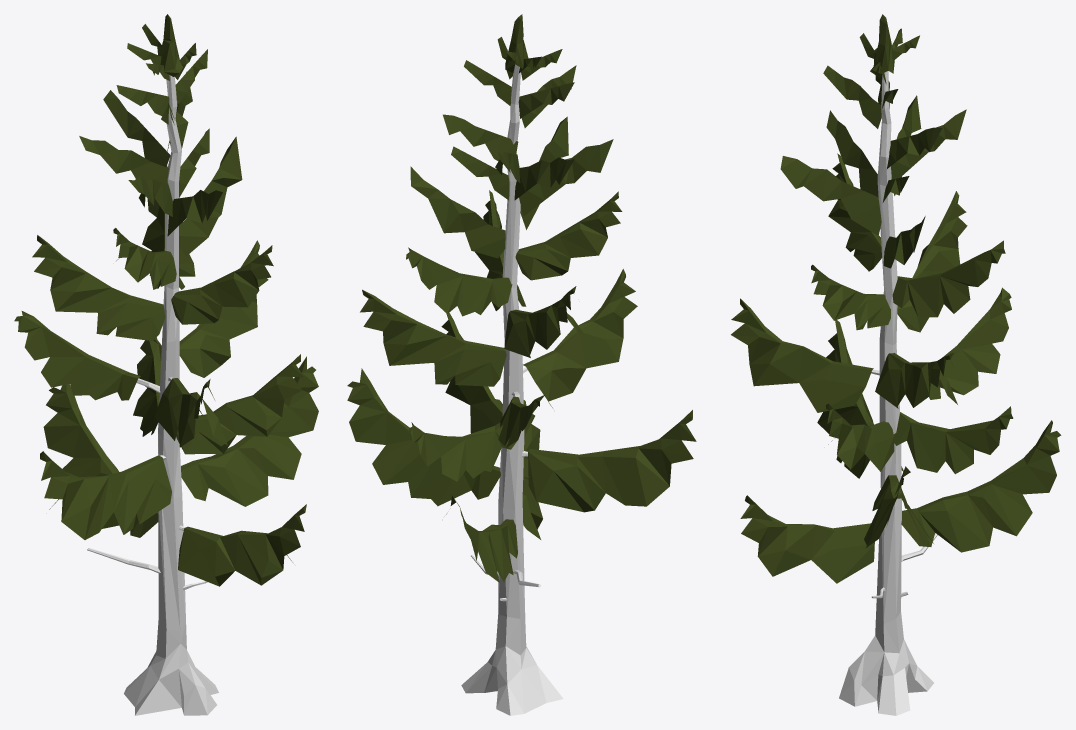
File: tree-spruce-young-a.gltf
3 renders of one model, left to right at view 1: azimuth 30°, elevation 25°; view 2: azimuth 150°, elevation 25°; view 3: azimuth 270°, elevation 25°, orthographic. The views are drawn at different scales.
Parts seen in each view (by area): view 1: tree-spruce-young-a; view 2: tree-spruce-young-a; view 3: tree-spruce-young-a.
Part boxes in pixels (x1,y1,x2,y2): tree-spruce-young-a: (14, 14, 318, 715); tree-spruce-young-a: (347, 14, 696, 715); tree-spruce-young-a: (731, 14, 1061, 715).
Size of the model in its own units: 0.0291 by 0.0604 by 0.0268.
